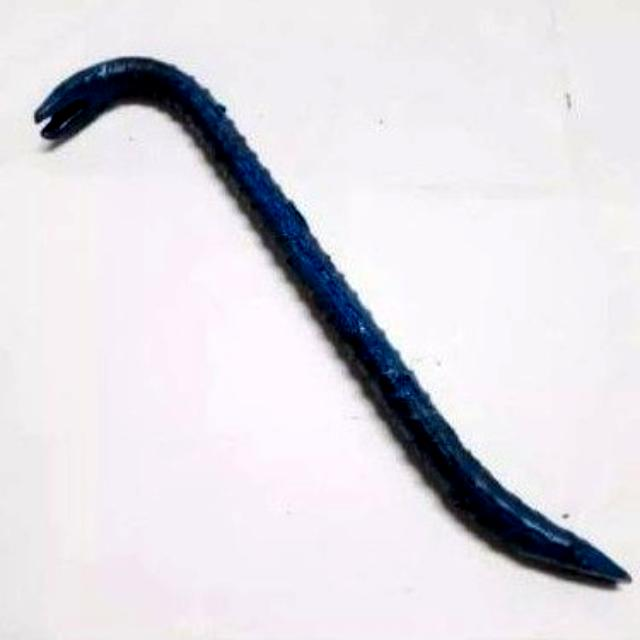crow bar: (21, 21, 640, 593)
